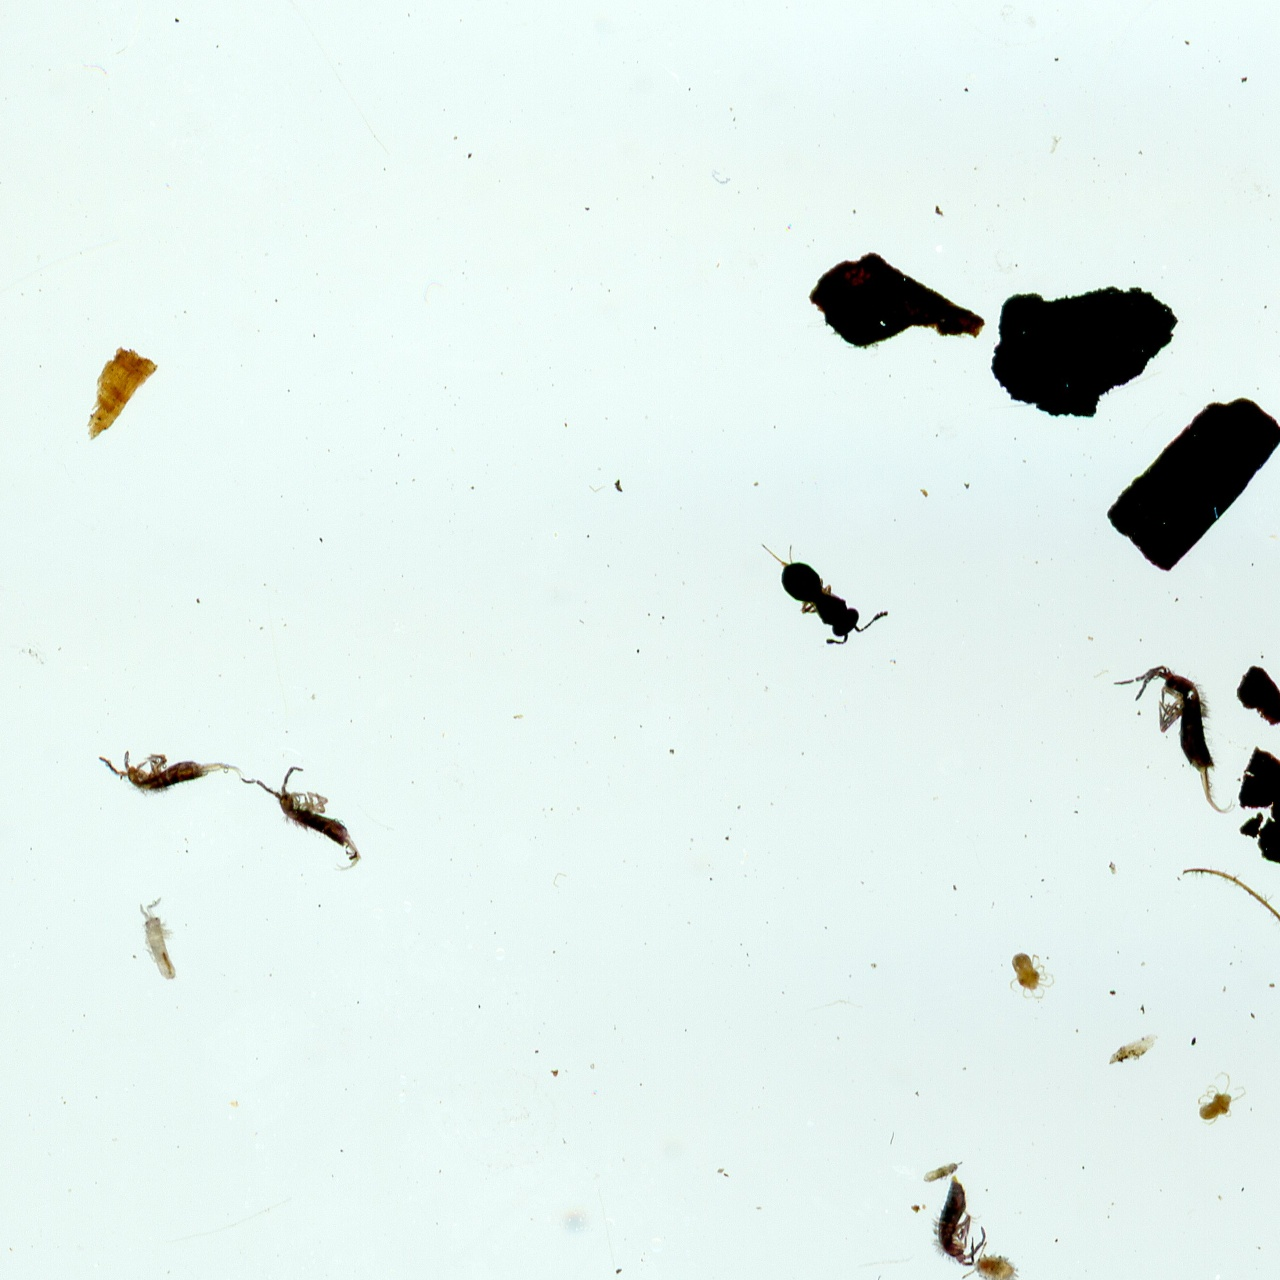arthropod: (1108, 657, 1240, 821), (755, 539, 892, 651), (235, 764, 365, 878), (91, 747, 246, 801), (928, 1174, 988, 1269), (135, 895, 184, 991), (1196, 1070, 1247, 1128), (959, 1238, 1029, 1280), (1007, 951, 1057, 1001), (919, 1157, 966, 1185)
